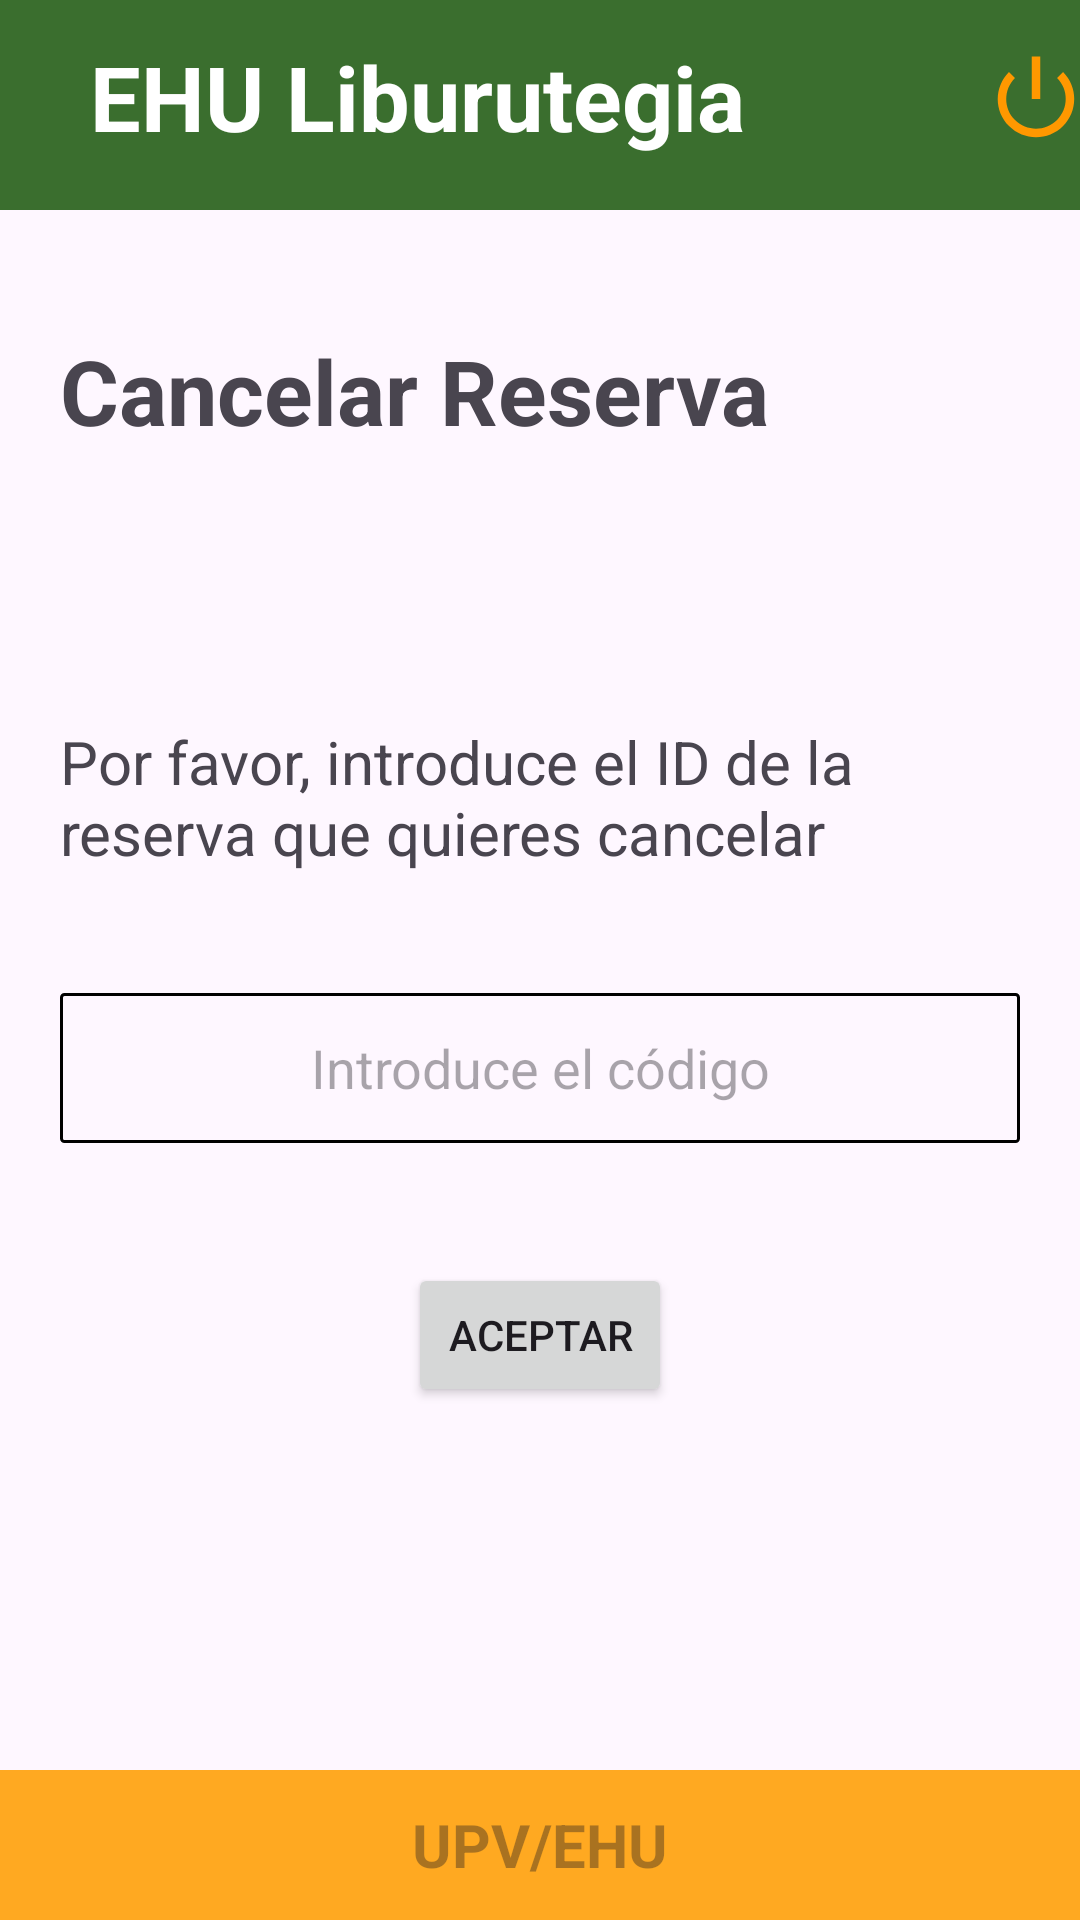

Screen size 1080px x 1920px. Icon name, then its box in pixels as bbox=[x1, y1, x2, y2]:
lock power off: bbox=[997, 56, 1075, 138]
